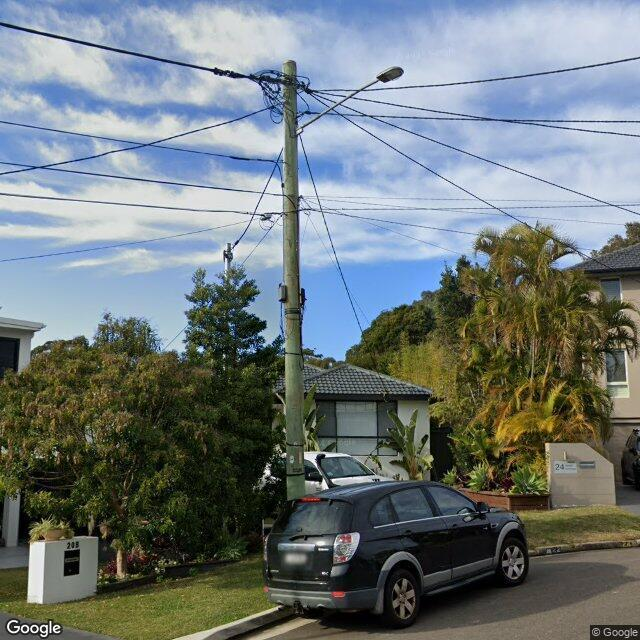streetlight: (292, 66, 404, 136)
timber-pole: (281, 60, 306, 502)
